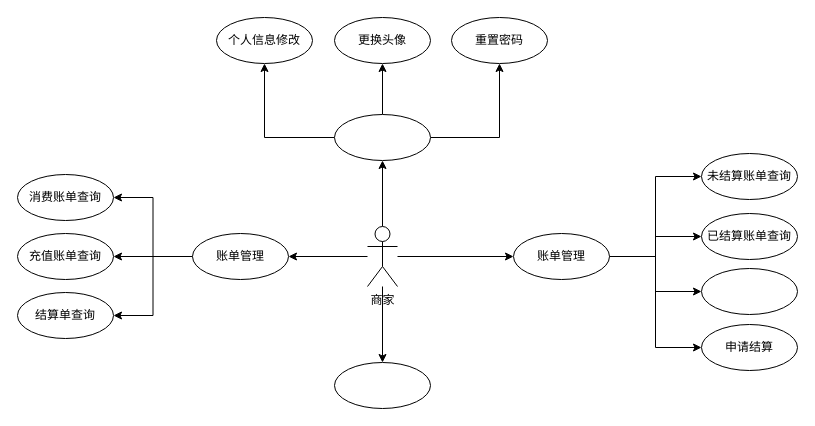
Some shapes in this 815 by 426 pixel diagram are drawn without their labels. The shapes that lost their labels are listed below. From the top down, each one's centre as x and y in pixels, then its label:
At [382,137]: "个人中心".
At [749,291]: "已结算账单报表".
At [382,385]: "消费功能".
